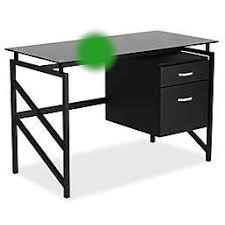focus: (74, 31, 117, 69)
